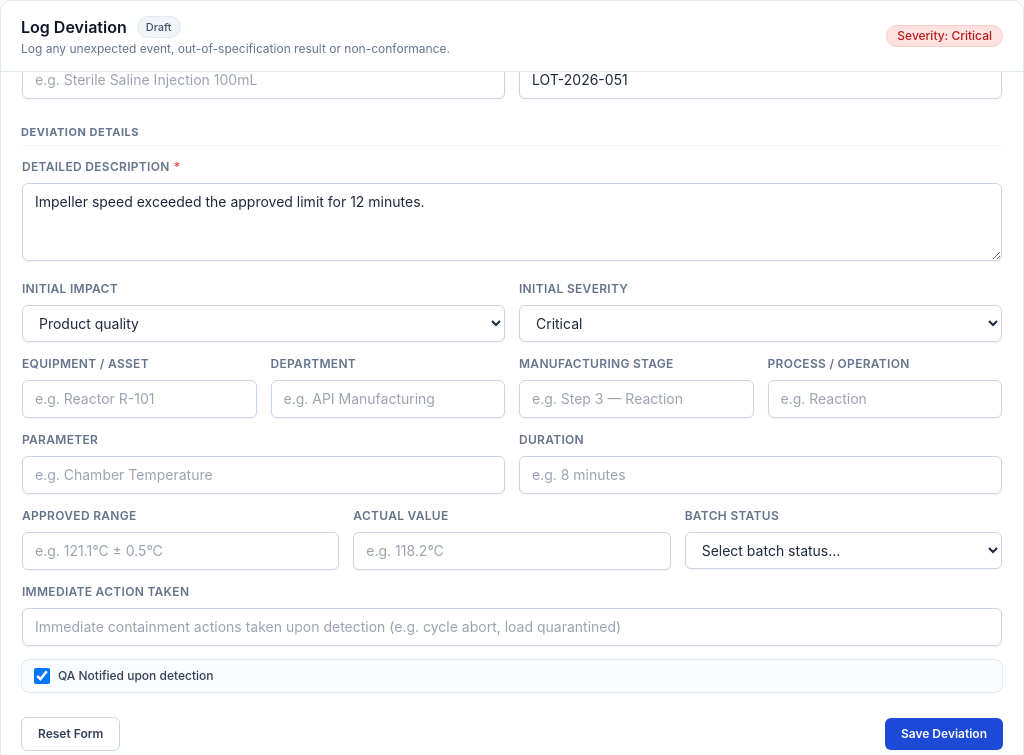
Test: LogDeviationForm - AIVOA Intake Workflow › 8. successfully saves, keeps full form visible, and renders Severity Report below on the left
(page scrolled)
Click the button "Save Deviation".
click(944, 734)  # box [885,718,1003,750]
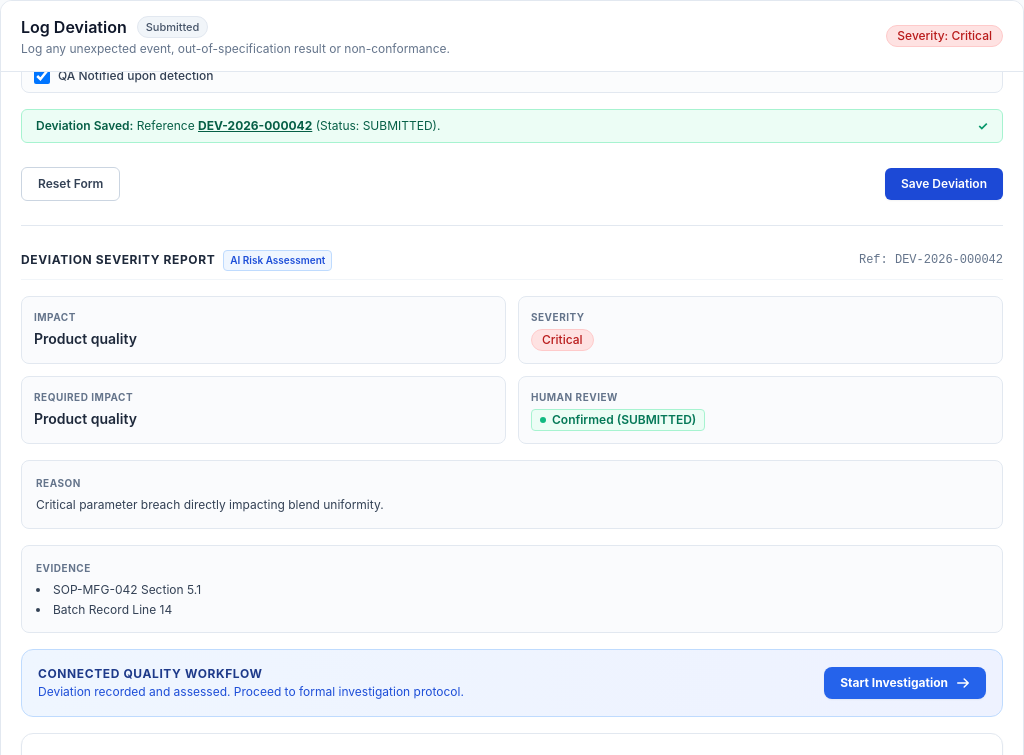
Expected: the text "DEVIATION SEVERITY REPORT" is shown, [21,252,215,268]
Expected: the text "Critical parameter breach directly impacting blend uniformity" is shown, [36,496,384,512]
Expected: the list item "SOP-MFG-042 Section 5.1" is shown, [53,582,201,597]
